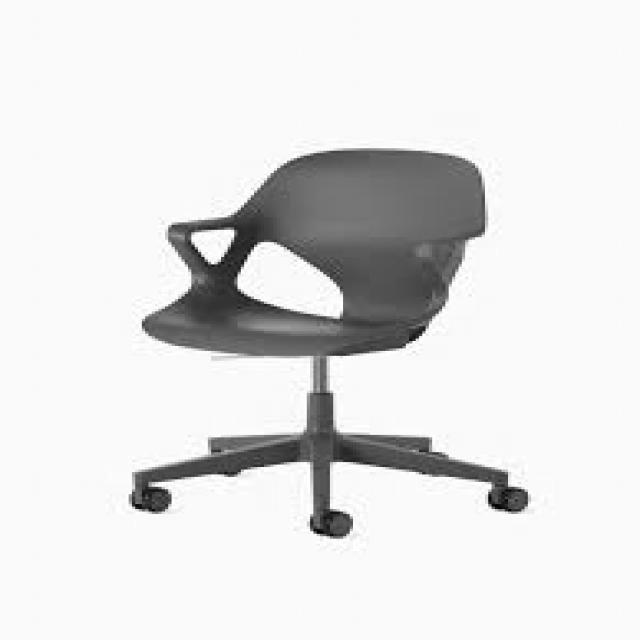chair: (123, 145, 533, 542)
